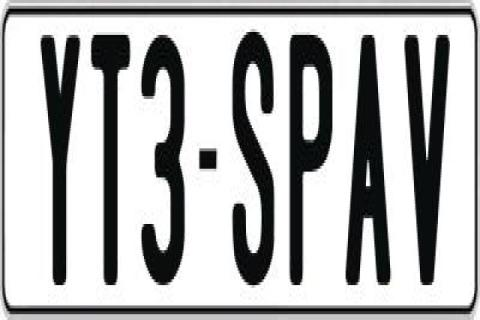0: (142, 27, 188, 280)
A: (346, 29, 394, 279)
P: (290, 29, 338, 288)
S: (232, 23, 276, 276)
T: (89, 27, 129, 286)
V: (402, 32, 452, 285)
Y: (38, 29, 80, 282)
